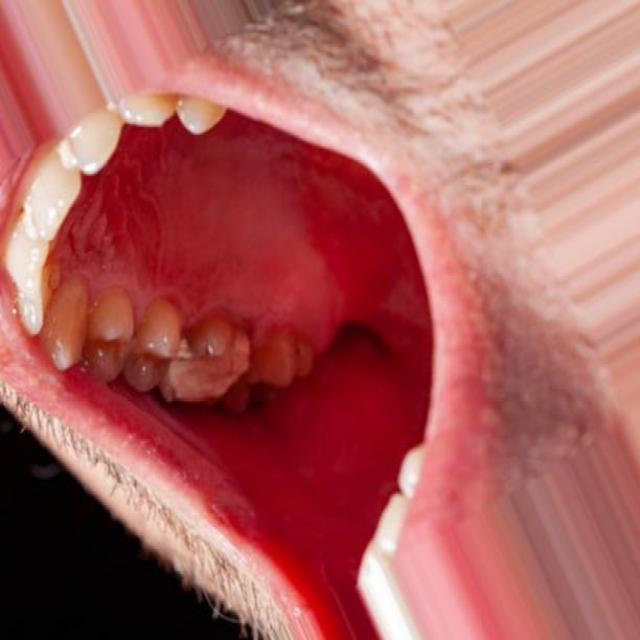caries: (167, 333, 248, 408)
